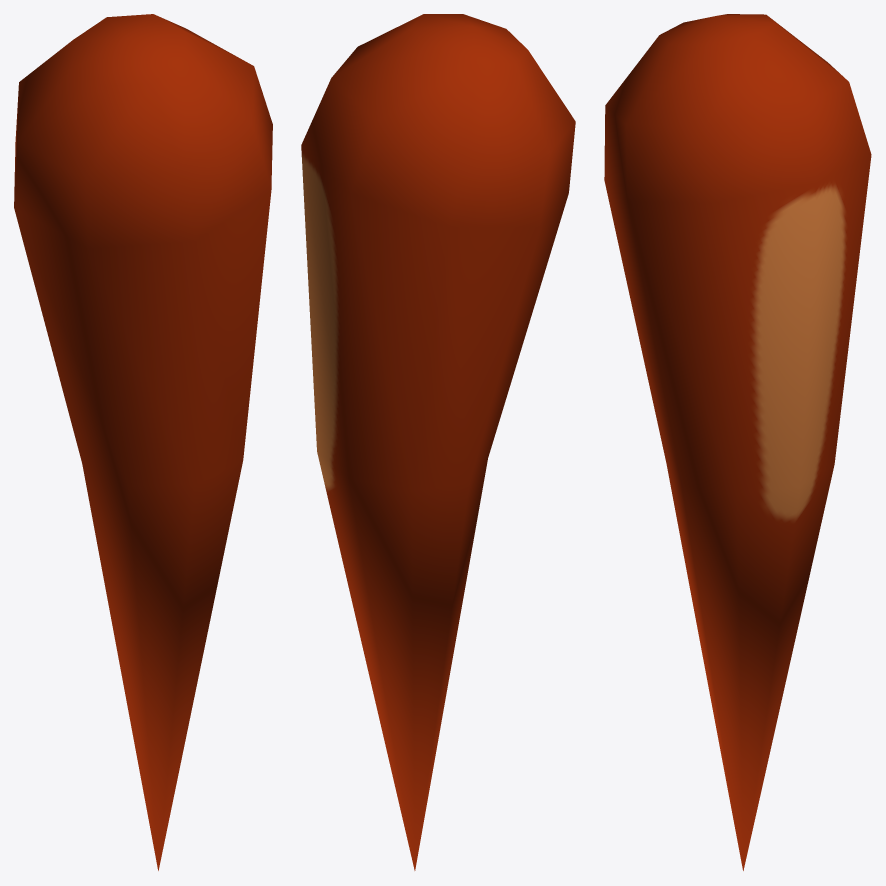
Rendered from Spider_002_Foot_001_L.fbx.
The picture shows the model from 3 angles, left to right: view 1: azimuth 30°, elevation 25°; view 2: azimuth 150°, elevation 25°; view 3: azimuth 270°, elevation 25°; orthographic projection. The views are drawn at different scales.
Visible parts, largest first — view 1: Foot_001_L; view 2: Foot_001_L; view 3: Foot_001_L.
Part boxes in pixels (x1=…): Foot_001_L: x1=14, y1=14, x2=272, y2=870; Foot_001_L: x1=301, y1=14, x2=575, y2=870; Foot_001_L: x1=604, y1=14, x2=871, y2=870.
Bounding box in the file's own units: 5.11 × 17.51 × 5.07.
